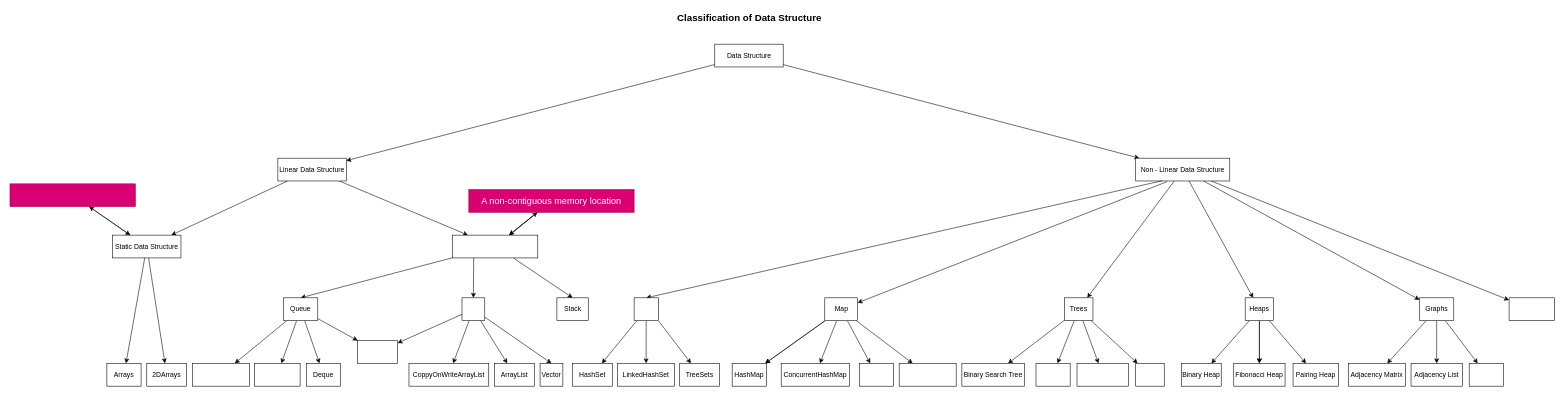
The diagram is 1565 pixels wide and 396 high, and some of its shapes have lost their labels. The shapes that lost their labels are listed below. From the top down, each one's centre as x and y in pixels, then its label:
[72,195]: Contiguous memory location
[495,246]: Dynamic Data Structure
[473,309]: List
[646,309]: Sets
[1532,309]: Hash Tables
[377,351]: LinkedList
[220,374]: PrioratyQueue
[277,374]: ArrayQueue
[876,374]: TreeMap
[927,374]: LinkedHashMap
[1052,374]: AVL Tree
[1102,374]: Red Back Tree
[1149,374]: B Tree
[1486,374]: Edge List
